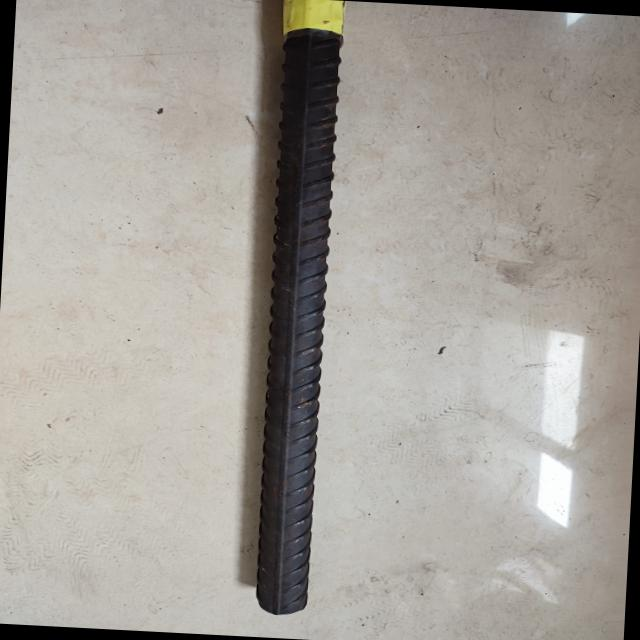ribbed bar: (244, 2, 346, 620)
